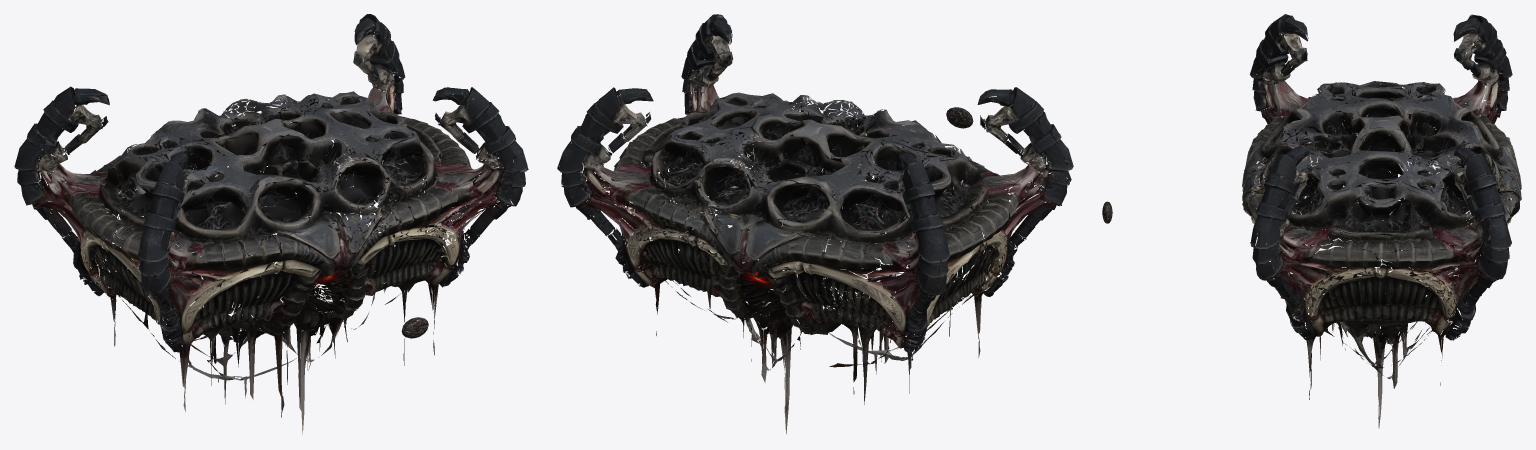
File: ceiling_brood_shadow_perch.glb
The picture shows the model from 3 angles, left to right: view 1: azimuth 30°, elevation 25°; view 2: azimuth 150°, elevation 25°; view 3: azimuth 270°, elevation 25°; orthographic projection. The views are drawn at different scales.
Visible parts, largest first — view 1: node_0; view 2: node_0; view 3: node_0.
Part boxes in pixels (x1=…): node_0: x1=14, y1=14, x2=528, y2=434; node_0: x1=557, y1=14, x2=1073, y2=433; node_0: x1=1242, y1=14, x2=1521, y2=428.
Size of the model in its own units: 0.9416 by 0.8252 by 0.9283.
Materials: 1 (1 with a texture image).
